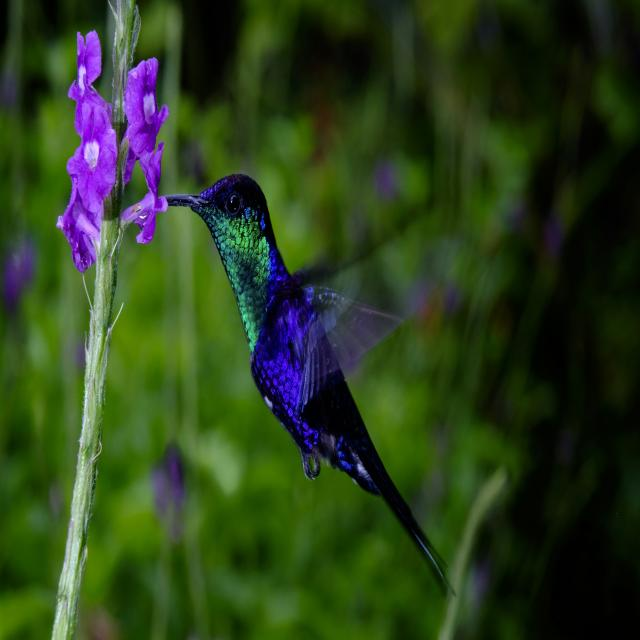Humming Bird: (162, 168, 448, 602)
